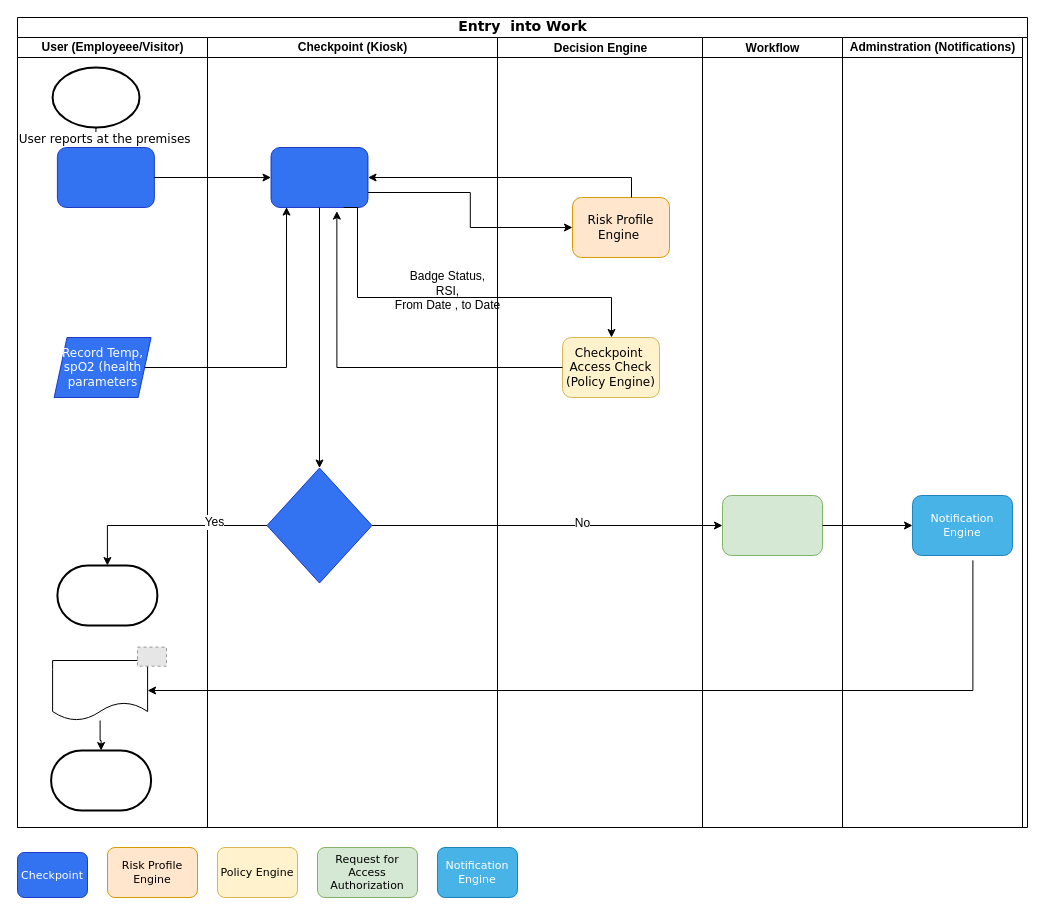
The diagram is 1045 pixels wide and 915 high, and some of its shapes have lost their labels. Grey dashed boxes stand in for pictures. Here are the shapes that lost their labels. From the top down, the centre of each, then its label:
At pixel 95 97: "START".
At pixel 105 177: "Produces QR Code".
At pixel 319 177: "Checkpoint App".
At pixel 319 525: "Entry Allowed ?".
At pixel 772 525: "Cancel Badge".
At pixel 107 595: "Access Allowed".
At pixel 100 690: "Rejection notification received".
At pixel 101 780: "Access Denied".
